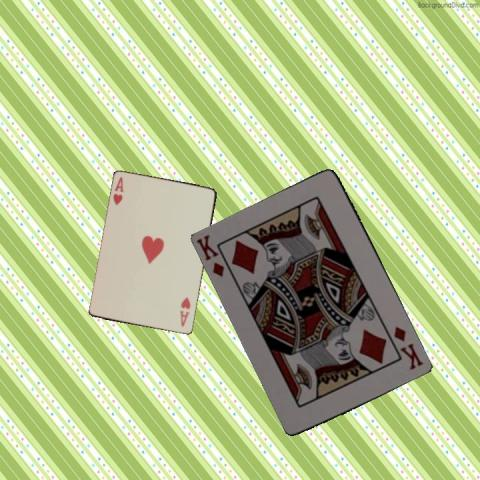Ah: (177, 294, 192, 328), (110, 174, 125, 207)
Kd: (194, 231, 236, 280), (391, 324, 425, 372)
